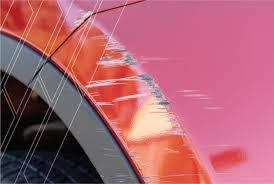scratch: (68, 7, 206, 183)
